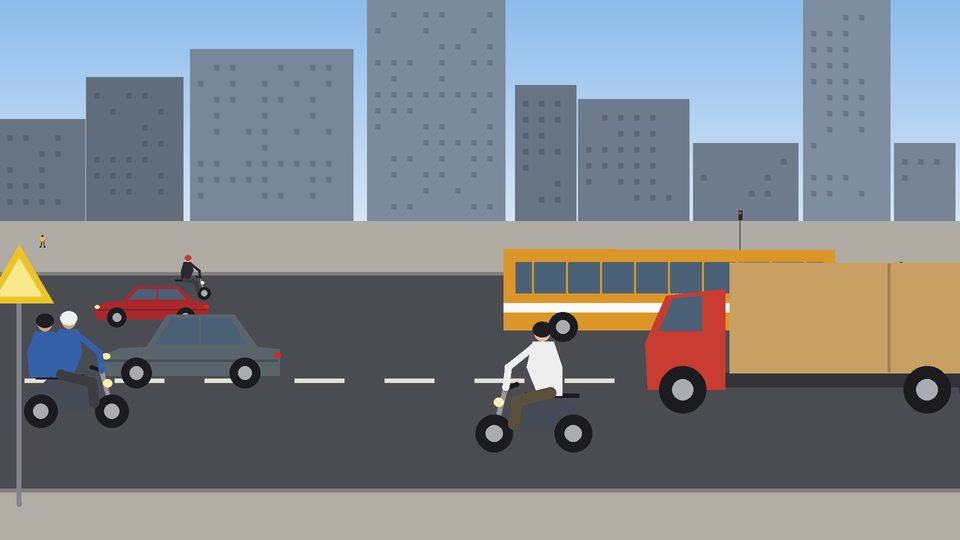Bus: (504, 249, 836, 342)
Car: (103, 315, 280, 389), (95, 287, 208, 327)
Motorcyclist: (476, 322, 593, 453), (24, 311, 128, 428), (174, 255, 211, 300)
Sign: (0, 245, 54, 304)
Truck: (645, 263, 960, 414)
